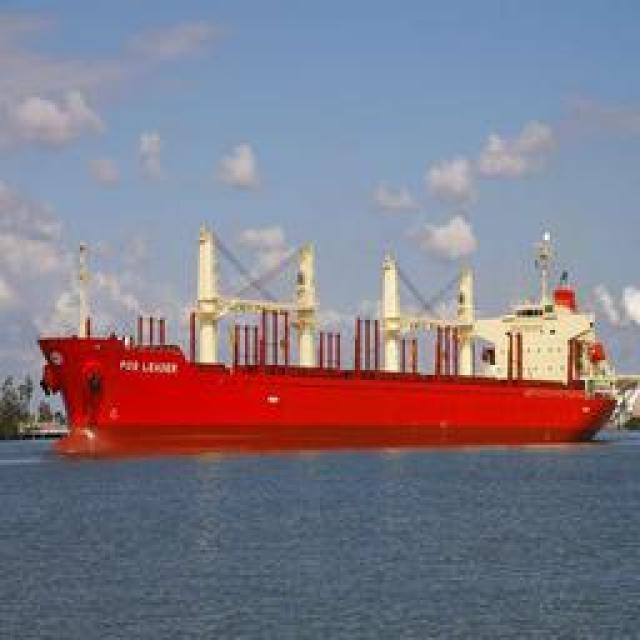ship2: (36, 222, 620, 461)
